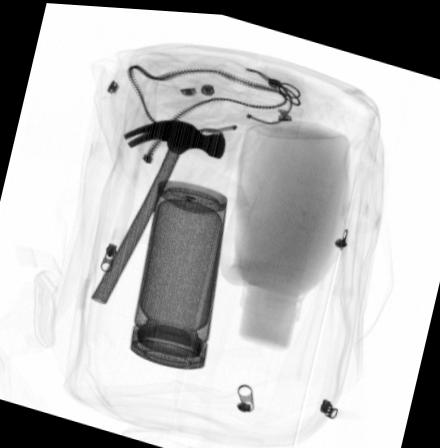Hammer: (90, 115, 228, 302)
